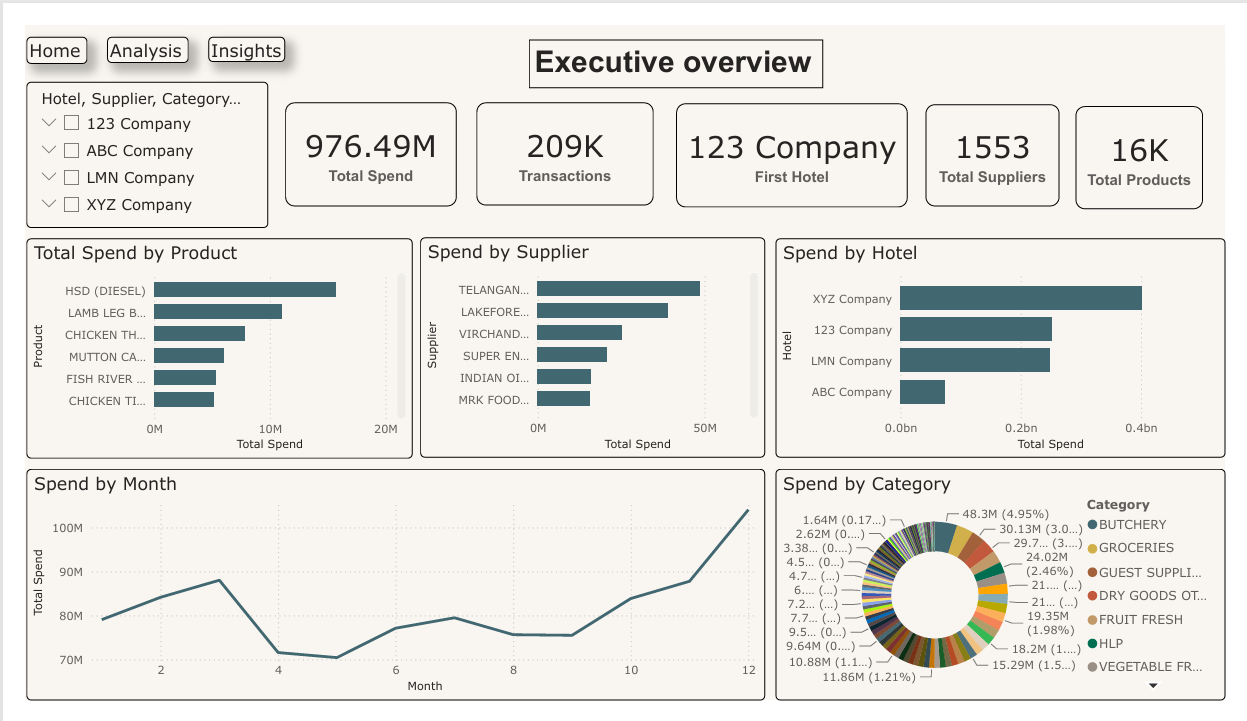

The dashboard page shown, as its layout file describes it:
{"tool":"powerbi","page":{"name":"Executive Overview","canvas":[1280,720],"ordinal":0},"visuals":[{"type":"card","fields":{"Values":["Sheet1.Total Spend"]},"box":[277.5,82,182.2,111],"z":0},{"type":"card","fields":{"Values":["Sheet1.Transactions"]},"box":[481.4,82,188.2,109.8],"z":1000},{"type":"card","fields":{"Values":["Purchase.Total Hotels"]},"box":[693.7,83.2,247.3,111],"z":2000},{"type":"card","fields":{"Values":["Sheet1.Total Suppliers"]},"box":[959.9,84.4,143.1,108.8],"z":3000},{"type":"card","fields":{"Values":["Sheet1.Total Products"]},"box":[1120.1,85.6,135.7,110.1],"z":4000},{"type":"clusteredBarChart","title":"Spend by Hotel","fields":{"Category":["Sheet1.Hotel"],"Y":["Sheet1.Total Spend"]},"box":[799.9,226.8,480.2,234],"z":5000},{"type":"clusteredBarChart","title":"Spend by Supplier","fields":{"Category":["Sheet1.Supplier"],"Y":["Sheet1.Total Spend"]},"box":[421,225.6,368,235.3],"z":6000},{"type":"donutChart","title":"Spend by Category","fields":{"Category":["Sheet1.Category"],"Y":["Sheet1.Total Spend"]},"box":[799.9,472.9,480.2,247.3],"z":7000},{"type":"lineChart","title":"Spend by Month","fields":{"Category":["Sheet1.Month"],"Y":["Sheet1.Total Spend"]},"box":[1.2,472.9,787.8,247.3],"z":8000},{"type":"clusteredBarChart","fields":{"Category":["Sheet1.Product"],"Y":["Sheet1.Total Spend"]},"box":[1.2,226.8,411.4,235.3],"z":9000},{"type":"slicer","fields":{"Values":["Sheet1.Hotel","Sheet1.Supplier","Sheet1.Category","Sheet1.Month"]},"box":[1.2,60.3,258.2,155.6],"z":10000},{"type":"actionButton","title":"Home","box":[1.2,12.1,65.1,29],"z":11000},{"type":"actionButton","title":"Insights","box":[195.4,12.1,82,26.5],"z":12000},{"type":"actionButton","title":"Analysis","box":[86.9,12.1,86.9,27.7],"z":13000},{"type":"textbox","box":[536.8,14.7,314.3,52.6],"z":14000}]}

Visuals, with their boxes in screenshot pixels (x1, y1, x2, y2), scaled from the page's 1280x720 canvas onto the 1247x721 screenshot:
card - Sheet1.Total Spend: {"x1": 270, "y1": 82, "x2": 448, "y2": 193}
card - Sheet1.Transactions: {"x1": 469, "y1": 82, "x2": 652, "y2": 192}
card - Purchase.Total Hotels: {"x1": 676, "y1": 83, "x2": 917, "y2": 194}
card - Sheet1.Total Suppliers: {"x1": 935, "y1": 85, "x2": 1075, "y2": 193}
card - Sheet1.Total Products: {"x1": 1091, "y1": 86, "x2": 1223, "y2": 196}
"Spend by Hotel" clusteredBarChart: {"x1": 779, "y1": 227, "x2": 1246, "y2": 461}
"Spend by Supplier" clusteredBarChart: {"x1": 410, "y1": 226, "x2": 769, "y2": 462}
"Spend by Category" donutChart: {"x1": 779, "y1": 474, "x2": 1246, "y2": 720}
"Spend by Month" lineChart: {"x1": 1, "y1": 474, "x2": 769, "y2": 720}
clusteredBarChart - Sheet1.Product x Sheet1.Total Spend: {"x1": 1, "y1": 227, "x2": 402, "y2": 463}
slicer - Sheet1.Hotel x Sheet1.Supplier: {"x1": 1, "y1": 60, "x2": 253, "y2": 216}
"Home" actionButton: {"x1": 1, "y1": 12, "x2": 65, "y2": 41}
"Insights" actionButton: {"x1": 190, "y1": 12, "x2": 270, "y2": 39}
"Analysis" actionButton: {"x1": 85, "y1": 12, "x2": 169, "y2": 40}
textbox: {"x1": 523, "y1": 15, "x2": 829, "y2": 67}
